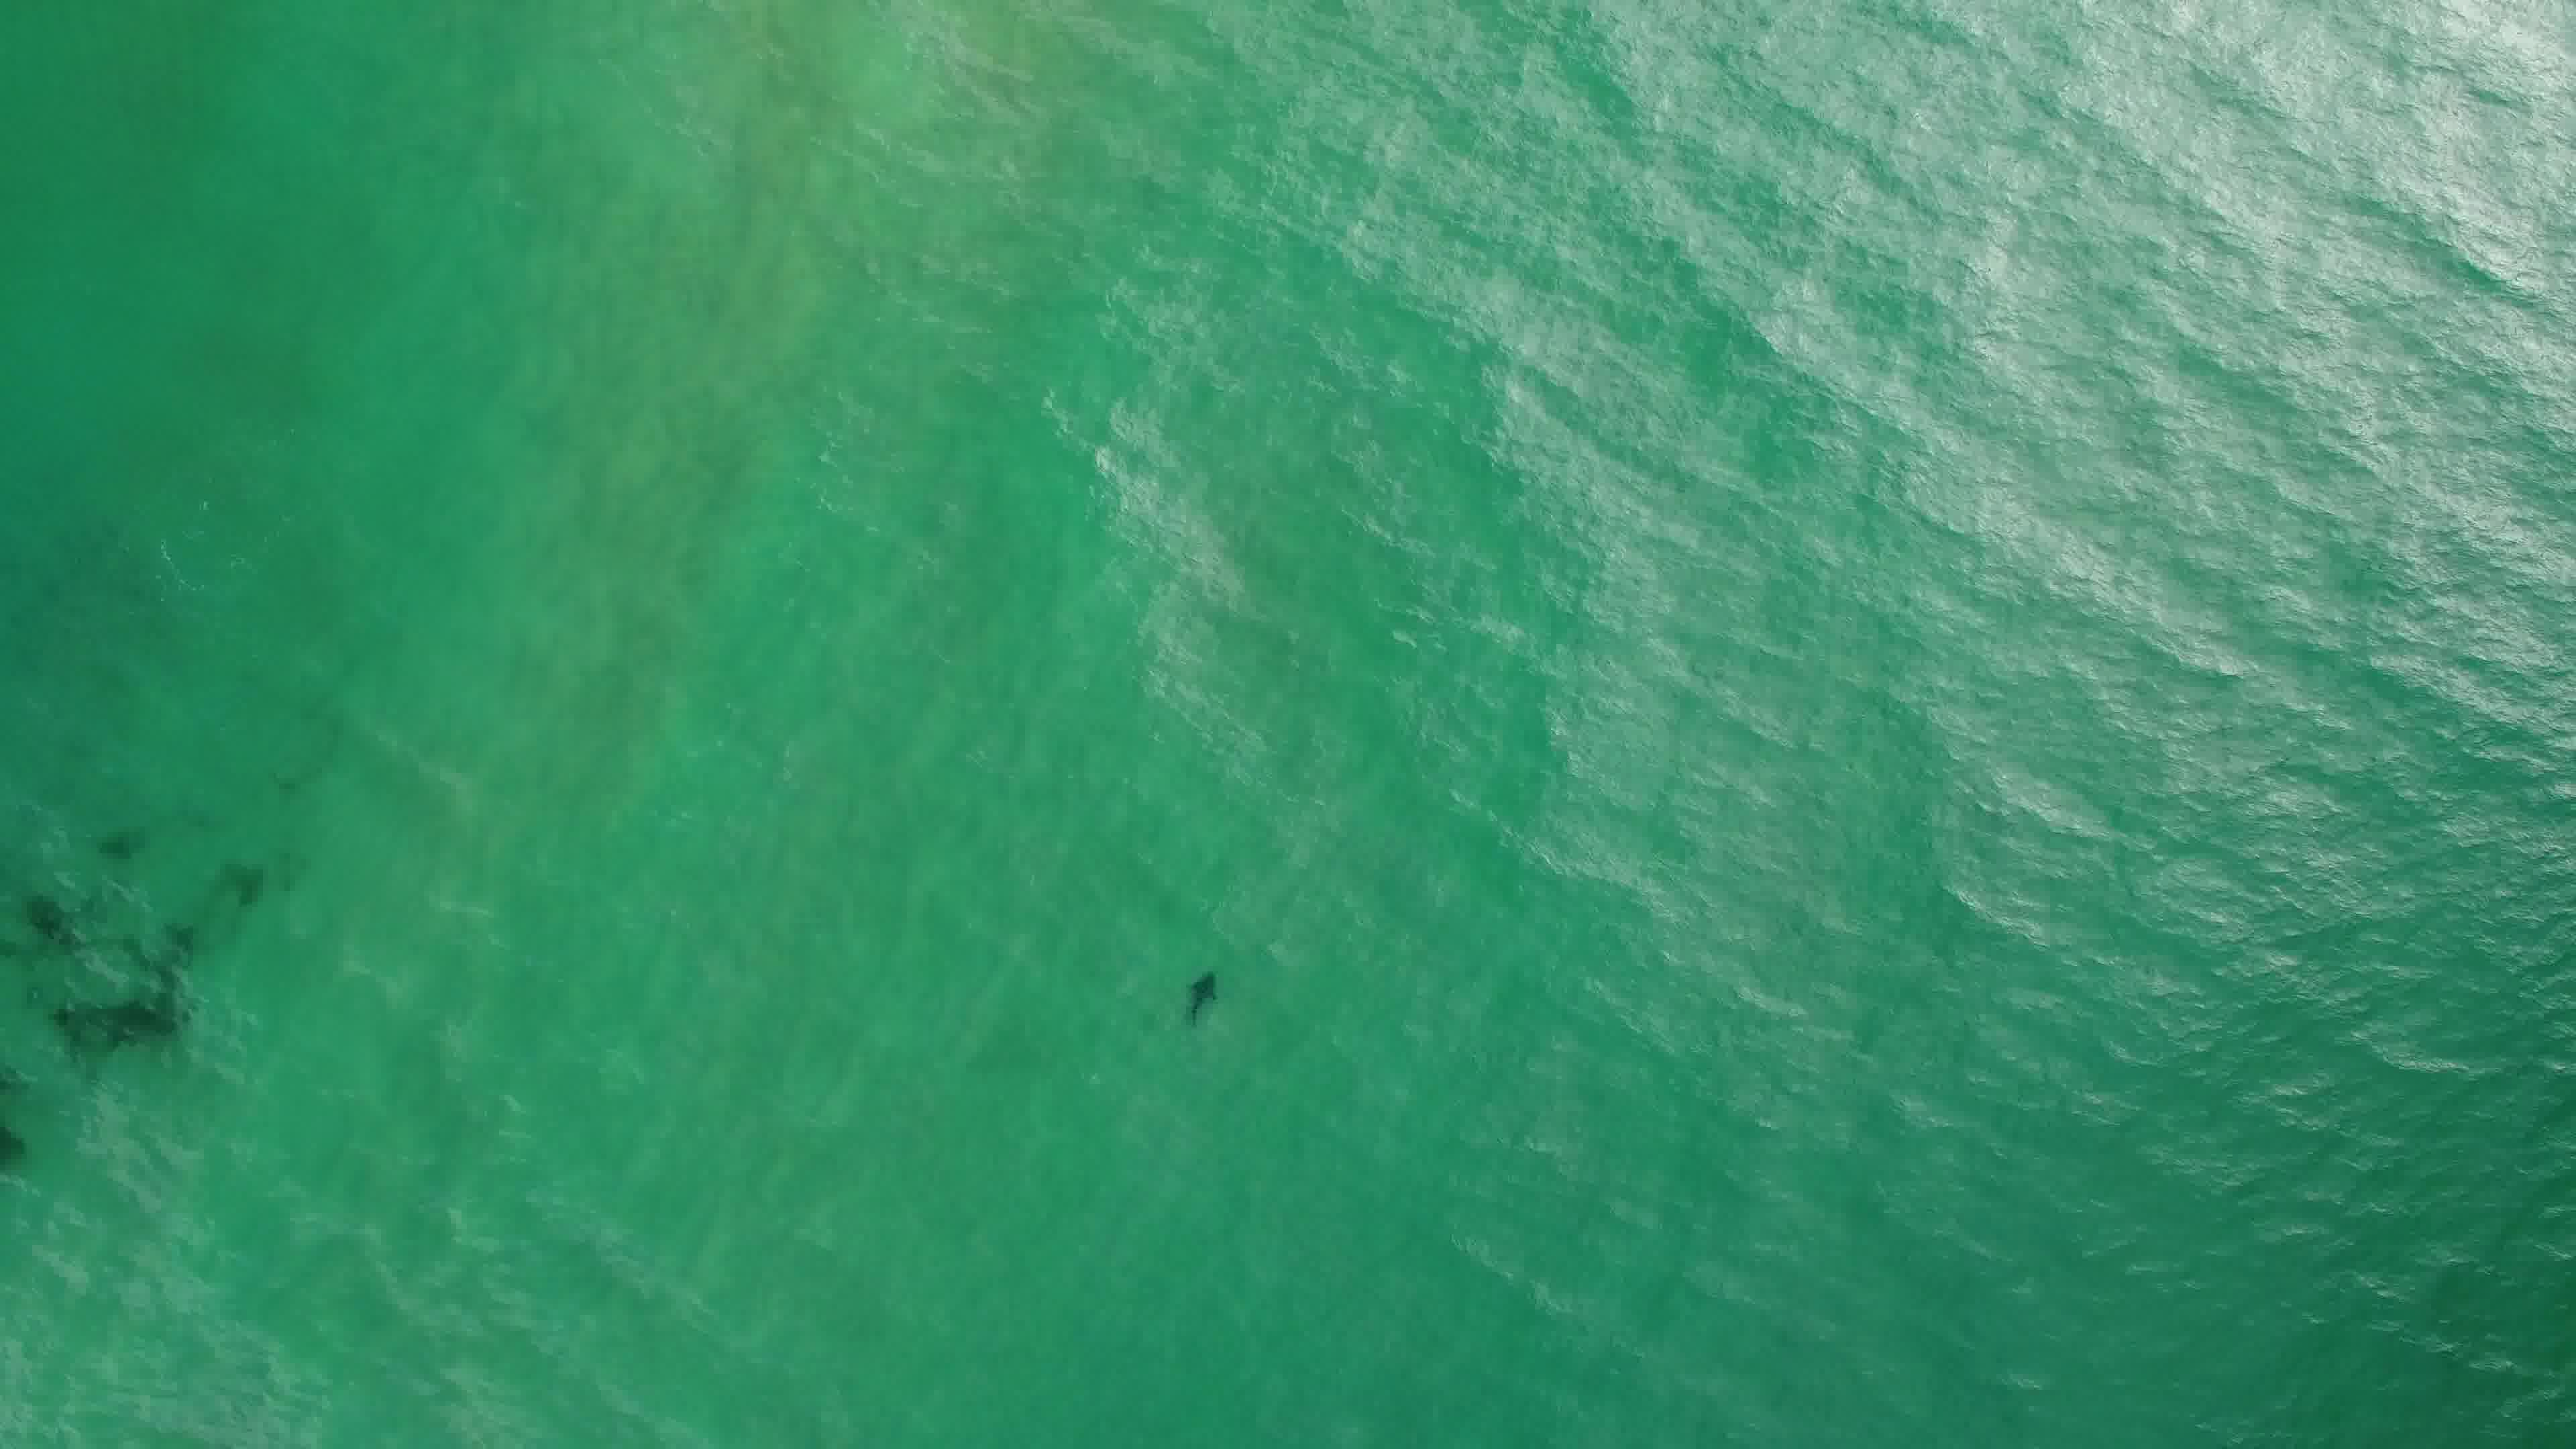shark: (1178, 966, 1226, 1030)
